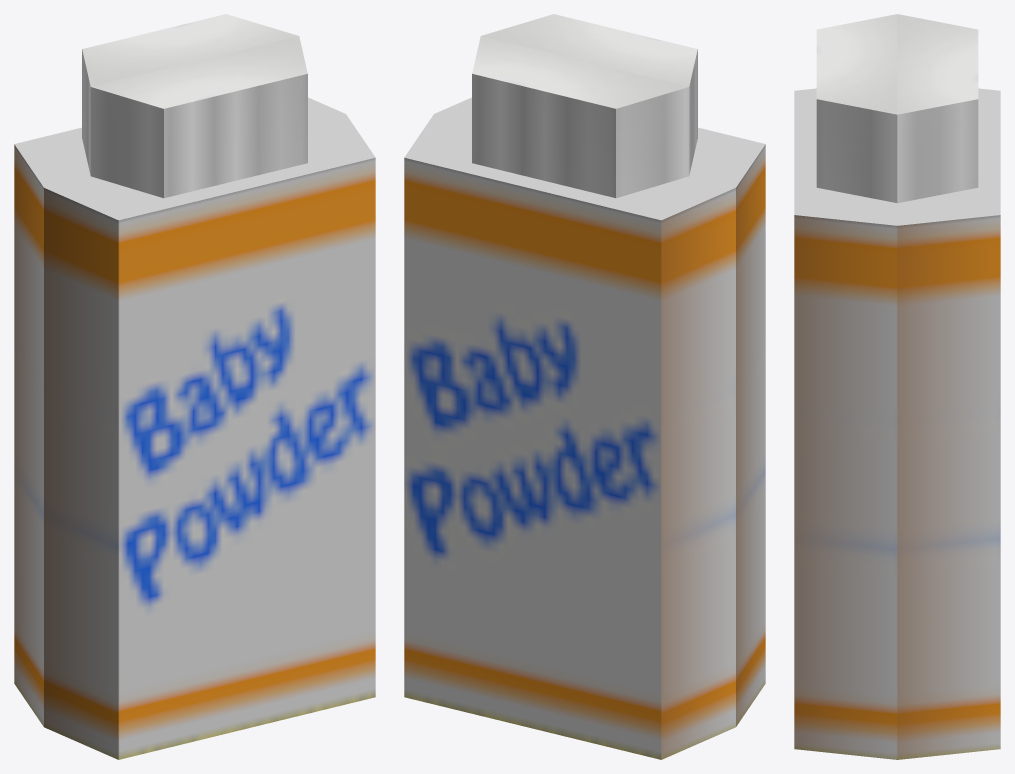
File: BabyPowder.fbx
3 renders of one model, left to right at view 1: azimuth 30°, elevation 25°; view 2: azimuth 150°, elevation 25°; view 3: azimuth 270°, elevation 25°, orthographic.
Parts seen in each view (by area): view 1: Maya_File_Assets:TexturedAssetsCurrent:Assets:baby_powder_01; view 2: Maya_File_Assets:TexturedAssetsCurrent:Assets:baby_powder_01; view 3: Maya_File_Assets:TexturedAssetsCurrent:Assets:baby_powder_01.
Boxes of the visible parts, x1=… form: Maya_File_Assets:TexturedAssetsCurrent:Assets:baby_powder_01: x1=14, y1=14, x2=375, y2=759; Maya_File_Assets:TexturedAssetsCurrent:Assets:baby_powder_01: x1=404, y1=14, x2=765, y2=759; Maya_File_Assets:TexturedAssetsCurrent:Assets:baby_powder_01: x1=794, y1=14, x2=1000, y2=759.
Size of the model in its own units: 0.1166 by 0.2319 by 0.0697.
